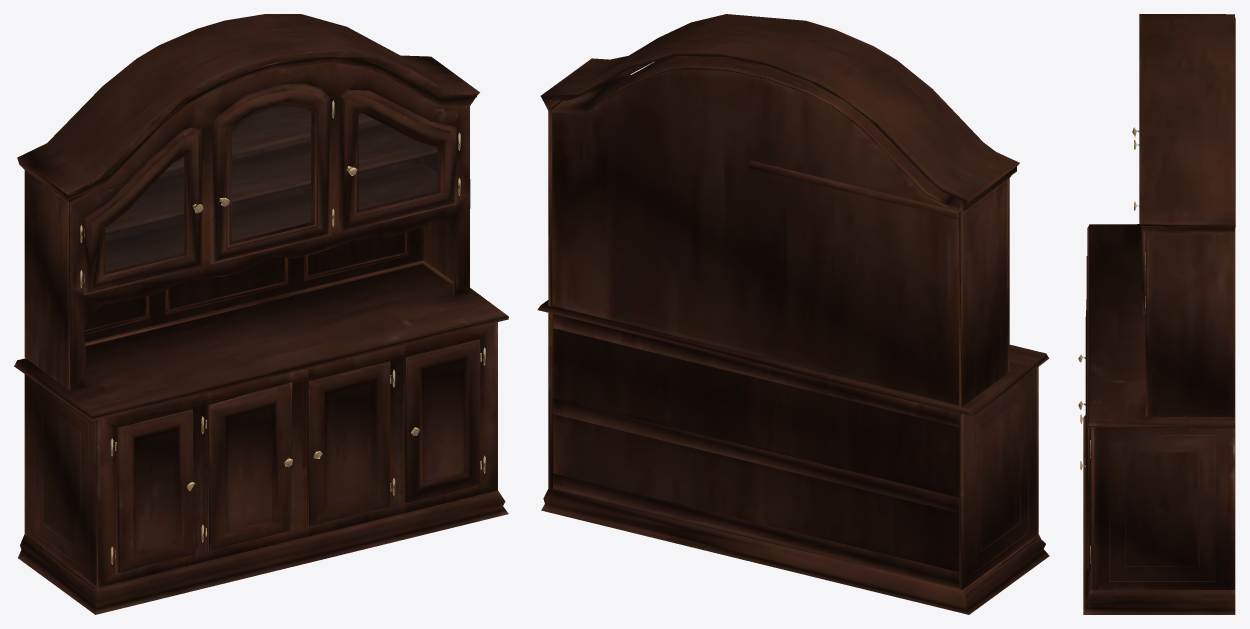
File: vintage_cabinet_01.glb
3 renders of one model, left to right at view 1: azimuth 30°, elevation 25°; view 2: azimuth 150°, elevation 25°; view 3: azimuth 270°, elevation 25°, orthographic. The views are drawn at different scales.
Visible parts, largest first — view 1: vintage_cabinet_01_body, vintage_cabinet_01_door_01; view 2: vintage_cabinet_01_body; view 3: vintage_cabinet_01_body.
Boxes of the visible parts, x1,y1,x2,y2 form: vintage_cabinet_01_body: [14, 14, 508, 614]; vintage_cabinet_01_door_01: [105, 107, 436, 271]; vintage_cabinet_01_body: [537, 14, 1049, 614]; vintage_cabinet_01_body: [1078, 14, 1235, 614].
Size of the model in its own units: 2.02 by 2.23 by 0.6698.
3 materials, 2 textured.
